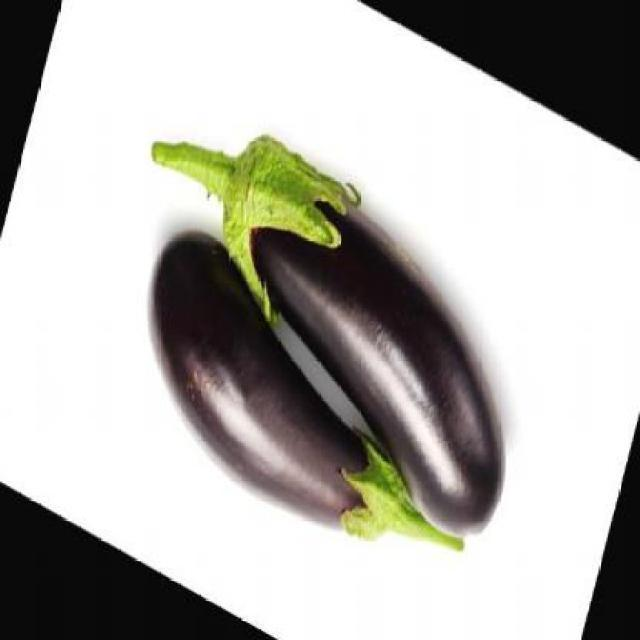eggplant: (98, 72, 552, 557), (110, 205, 502, 608)
